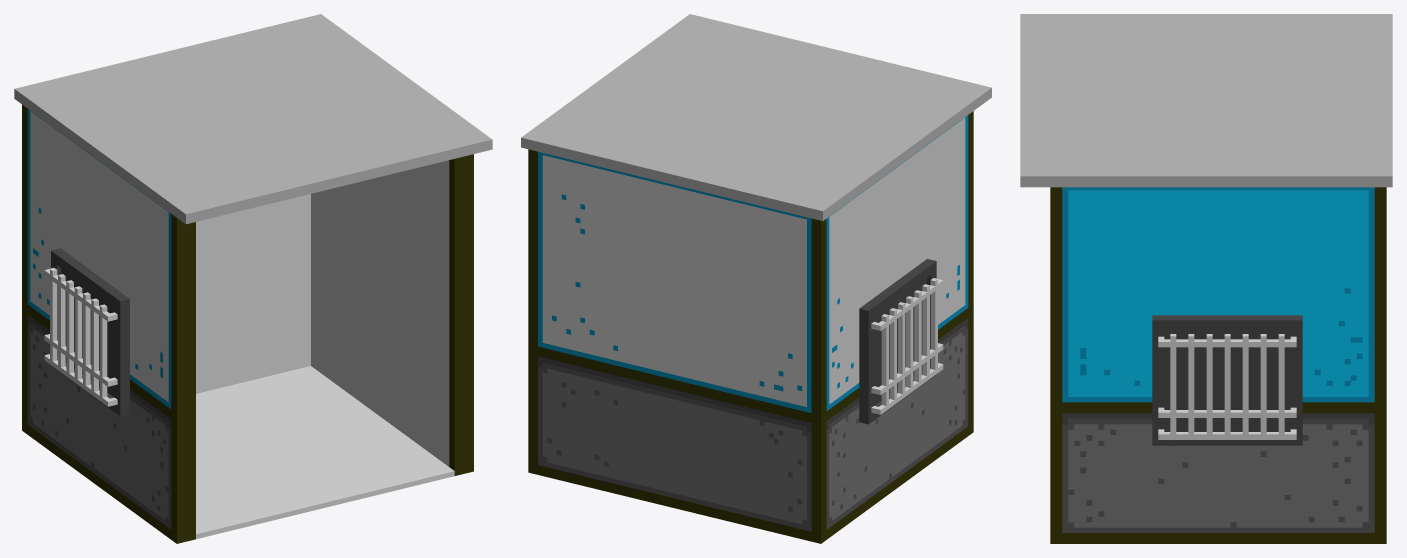
Rendered from typeEighteen.glb.
The picture shows the model from 3 angles, left to right: view 1: azimuth 30°, elevation 25°; view 2: azimuth 150°, elevation 25°; view 3: azimuth 270°, elevation 25°; orthographic projection. The views are drawn at different scales.
Parts seen in each view (by area): view 1: ObjObject; view 2: ObjObject; view 3: ObjObject.
Boxes of the visible parts, left/top/right/bottom form: ObjObject: left=14, top=14, right=492, bottom=543; ObjObject: left=521, top=14, right=991, bottom=543; ObjObject: left=1020, top=14, right=1392, bottom=543.
Bounding box in the file's own units: 7 × 6.8 × 6.2.
Materials: 2 (1 with a texture image).
